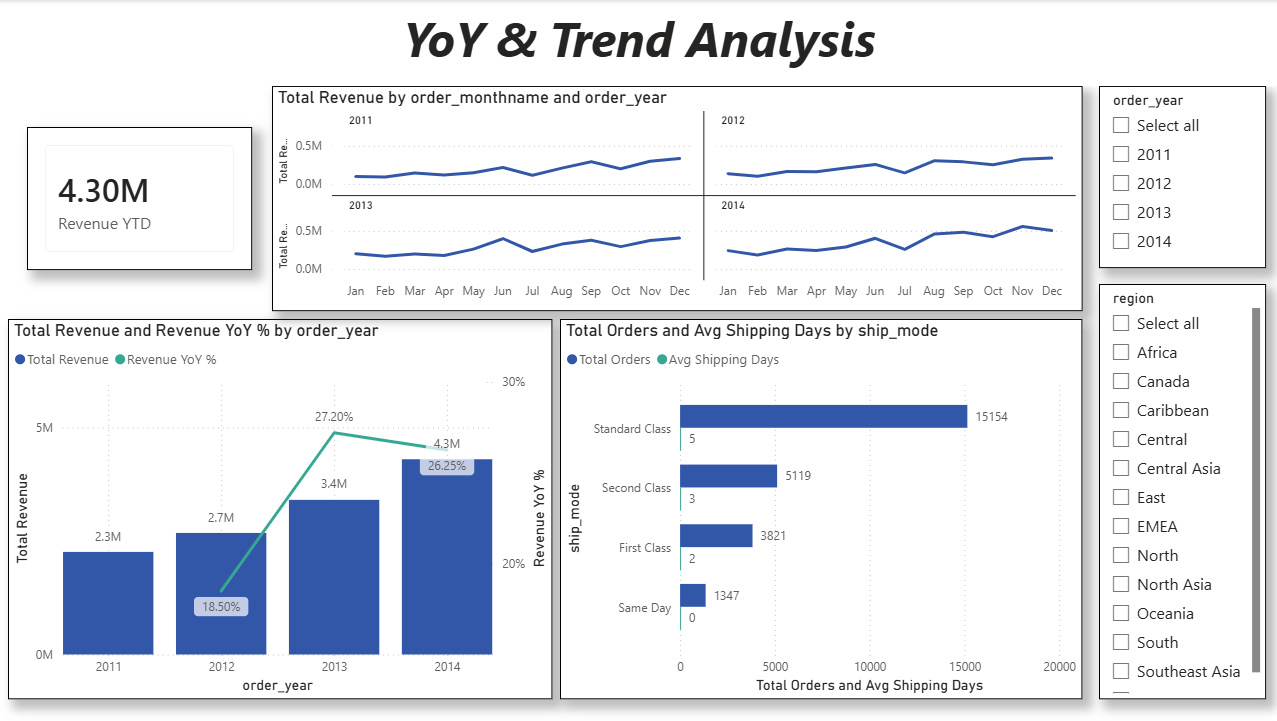

This screenshot's page, from the dashboard's own definition file:
{"tool":"powerbi","page":{"name":"YoY & Trend Analysis","canvas":[1280,720],"ordinal":3},"visuals":[{"type":"lineStackedColumnComboChart","fields":{"Category":["superstore_clean.order_year"],"Y":["superstore_clean.Total Revenue"],"Y2":["superstore_clean.Revenue YoY %"]},"box":[9,318.5,543.8,379.6],"z":0},{"type":"lineChart","fields":{"Category":["superstore_clean.order_monthname"],"Y":["superstore_clean.Total Revenue"],"Rows":["superstore_clean.order_year"]},"box":[272.4,86.1,810.3,225.4],"z":1000},{"type":"clusteredBarChart","fields":{"Category":["superstore_clean.ship_mode"],"Y":["superstore_clean.Total Orders","superstore_clean.Avg Shipping Days"]},"box":[560.9,318.5,521.8,379.6],"z":2000},{"type":"cardVisual","fields":{"Data":["superstore_clean.Revenue YTD"]},"box":[28,127.2,225.4,143.2],"z":3000},{"type":"slicer","fields":{"Values":["superstore_clean.order_year"]},"box":[1098.7,86.1,167.3,182.3],"z":4000},{"type":"slicer","fields":{"Values":["superstore_clean.region"]},"box":[1098.7,283.4,167.3,414.6],"z":5000},{"type":"textbox","box":[0,0,1280,86.1],"z":6000}]}

Visuals, with their boxes in screenshot pixels (x1, y1, x2, y2), scaled from the page's 1280x720 canvas onto the 1277x721 screenshot:
lineStackedColumnComboChart - superstore_clean.order_year x superstore_clean.Total Revenue: {"x1": 9, "y1": 319, "x2": 552, "y2": 699}
lineChart - superstore_clean.order_monthname x superstore_clean.Total Revenue: {"x1": 272, "y1": 86, "x2": 1080, "y2": 312}
clusteredBarChart - superstore_clean.ship_mode x superstore_clean.Total Orders: {"x1": 560, "y1": 319, "x2": 1080, "y2": 699}
cardVisual - superstore_clean.Revenue YTD: {"x1": 28, "y1": 127, "x2": 253, "y2": 271}
slicer - superstore_clean.order_year: {"x1": 1096, "y1": 86, "x2": 1263, "y2": 269}
slicer - superstore_clean.region: {"x1": 1096, "y1": 284, "x2": 1263, "y2": 699}
textbox: {"x1": 0, "y1": 0, "x2": 1276, "y2": 86}
